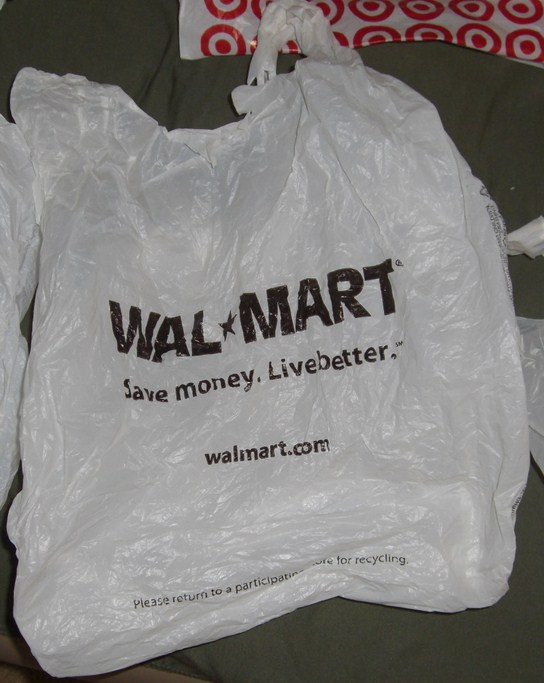plastic bag: (7, 1, 530, 682)
